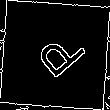P_SW: (24, 25, 86, 85)
